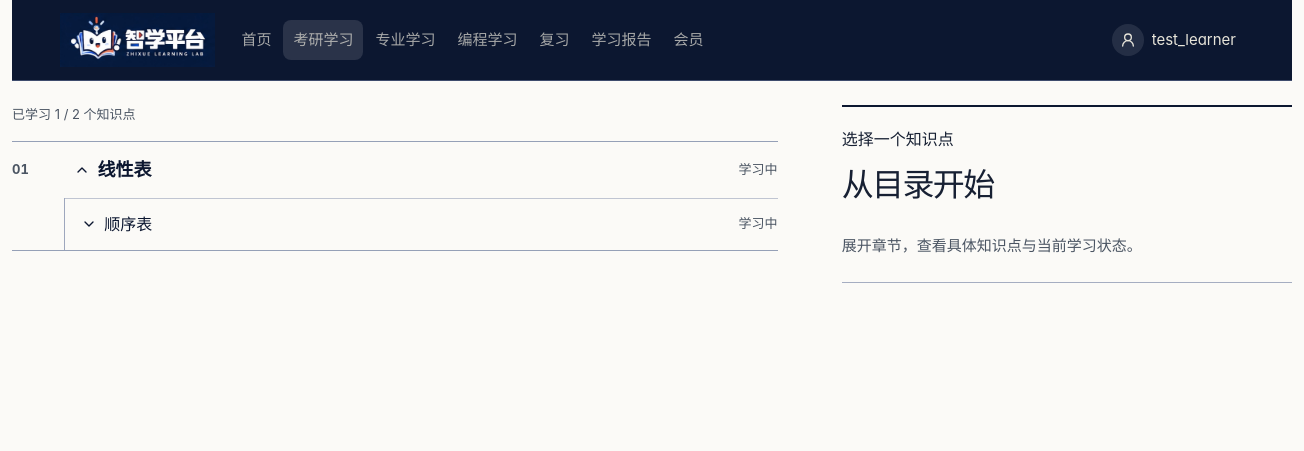
Scenario: Cs408KnowledgeWorkspace › renders the real recursive children hierarchy and keeps chapter semantics separate from knowledge semantics
The image size is (1304, 451).
Expected: the text "学习中" is shown 2 times, [739,160,778,179]; [739,214,778,234]
Expected: the text "插入操作" is not shown
Click the button with aria-label "展开 顺序表": (128, 224) [81,202,728,246]
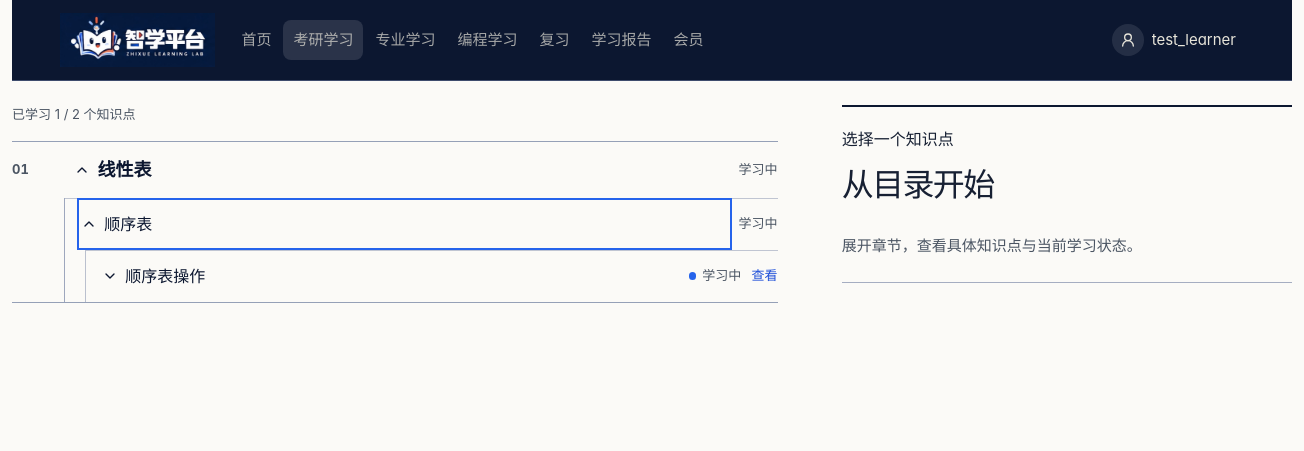
Click the button with aria-label "展开 顺序表操作": (165, 276) [102,254,678,298]
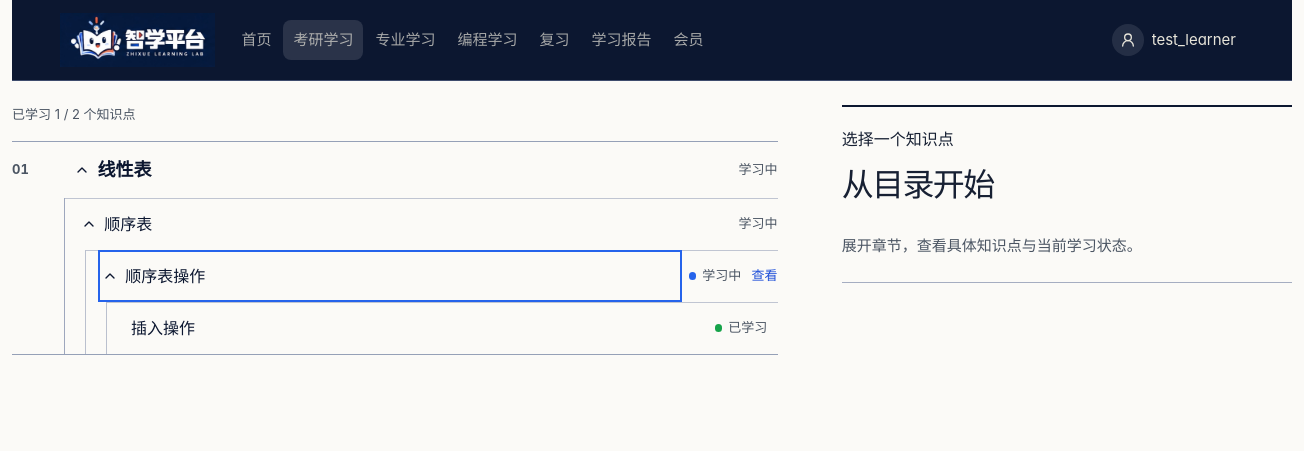
Click the button with aria-label "选择 插入操作": (163, 328) [131,306,704,350]
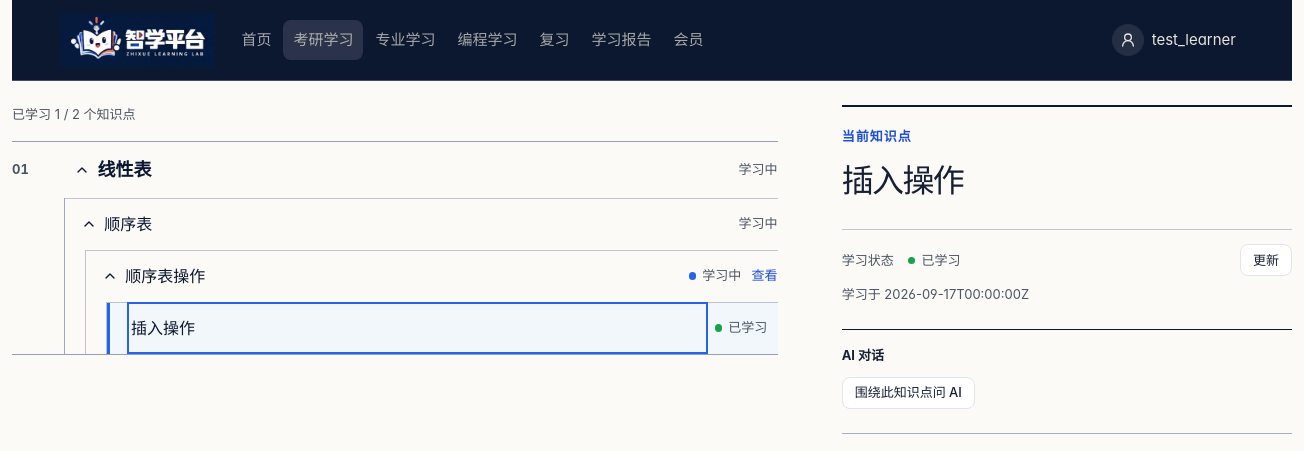
Expected: the text "学习状态" is shown, [842,250,894,270]
Result: the heading "插入操作" is shown at [842,161,963,200]
Result: the text "已学习" is shown 2 times at [715,318,767,338]; [908,250,961,270]
Click the button "更新": (1266, 260) [1240,244,1292,276]
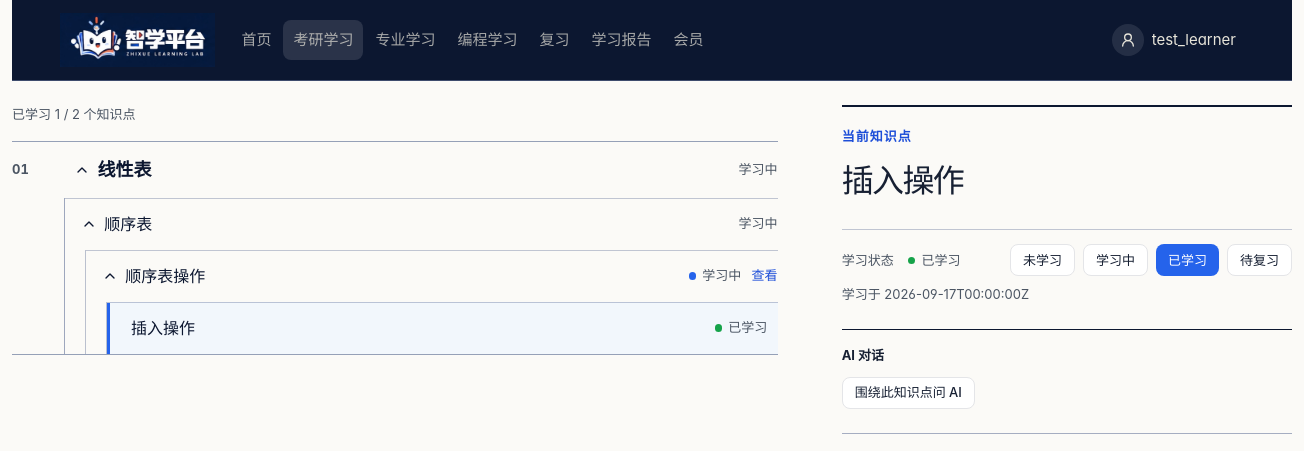
Click the button "待复习": (1260, 260) [1227,244,1292,276]
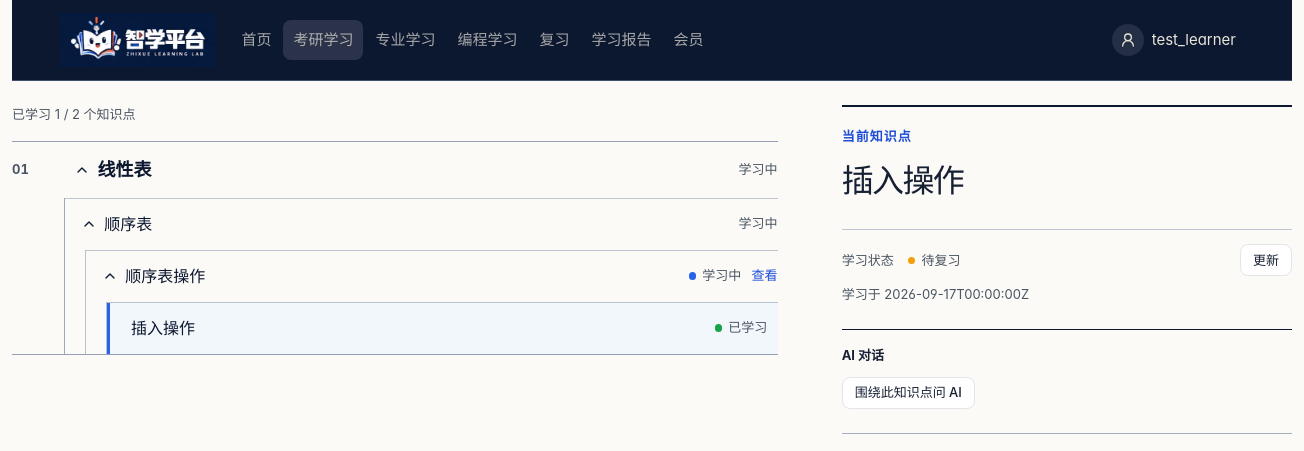
Result: the text "待复习" is shown at [908,250,961,270]
